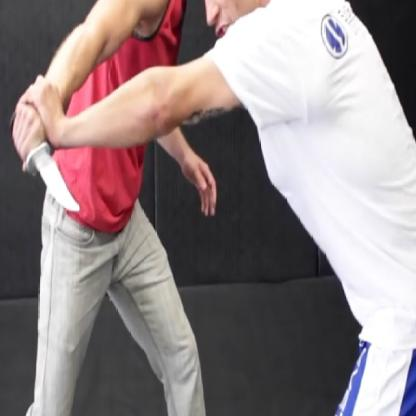knife: (4, 108, 86, 226)
